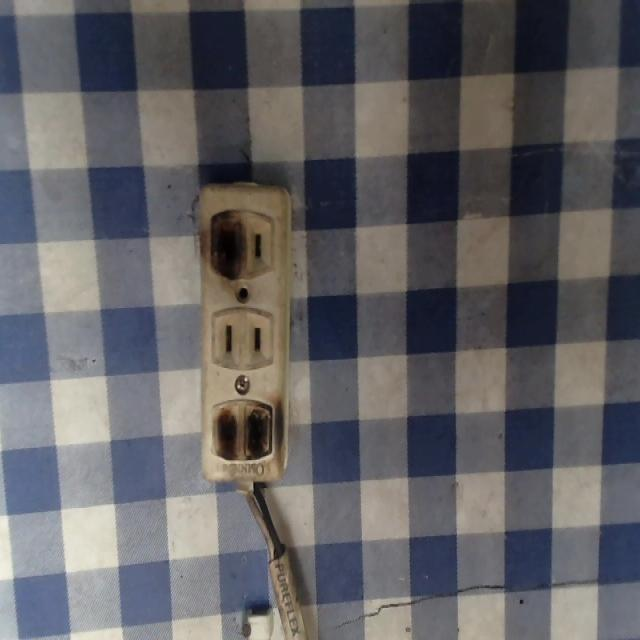-: (208, 396, 288, 471), (205, 208, 250, 277)
